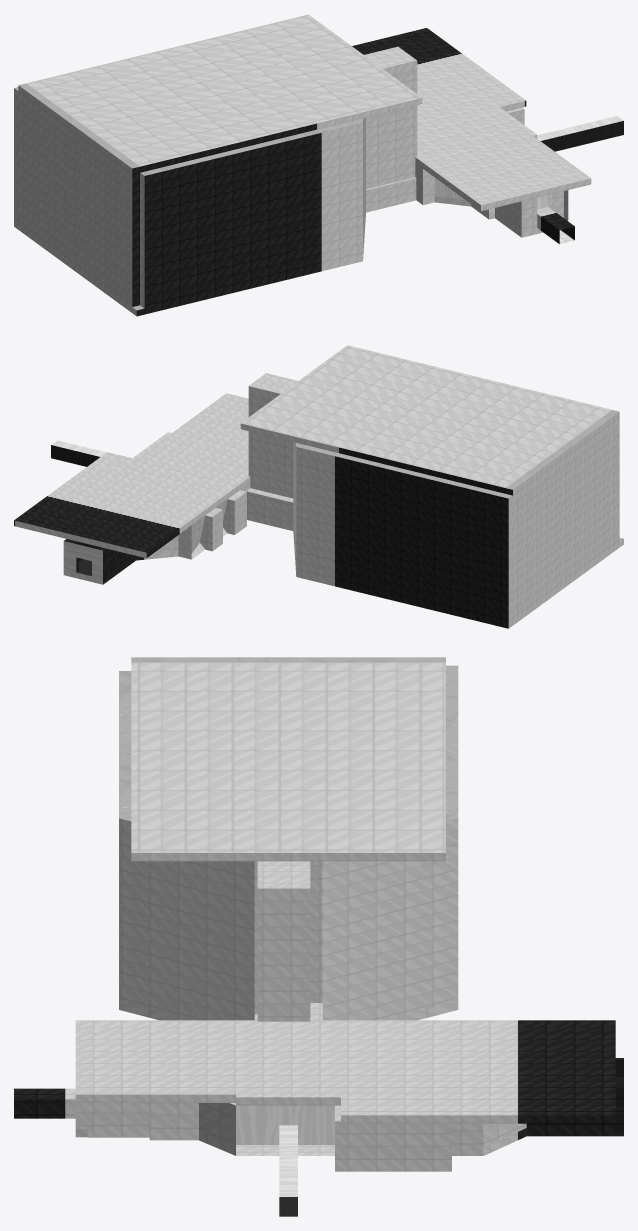
Rendered from mainroom.fbx.
The picture shows the model from 3 angles, top to bottom: view 1: azimuth 30°, elevation 25°; view 2: azimuth 150°, elevation 25°; view 3: azimuth 270°, elevation 25°; orthographic projection. The views are drawn at different scales.
Visible parts, largest first — view 1: mesh_26; view 2: mesh_26; view 3: mesh_26.
Boxes of the visible parts, bbox=[...] form: mesh_26: bbox=[14, 14, 623, 316]; mesh_26: bbox=[14, 345, 623, 628]; mesh_26: bbox=[14, 657, 623, 1216].
Bounding box in the file's own units: 9024 × 2288 × 6326.
